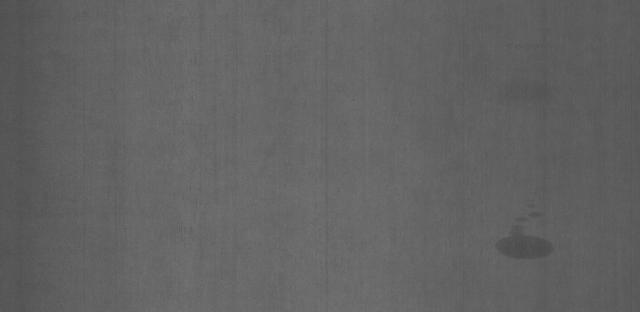oil_spot: (489, 203, 563, 274)
